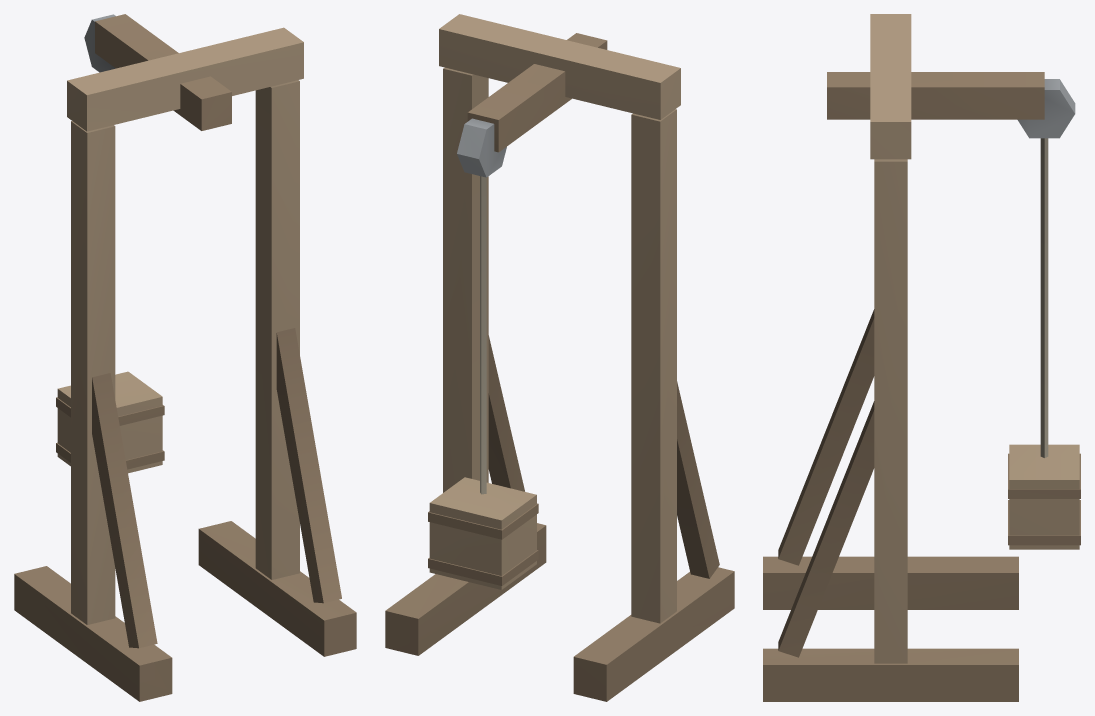
Rendered from crane_small_low.glb.
3 renders of one model, left to right at view 1: azimuth 30°, elevation 25°; view 2: azimuth 150°, elevation 25°; view 3: azimuth 270°, elevation 25°, orthographic. The views are drawn at different scales.
Parts seen in each view (by area): view 1: geometry_crane_small, geometry_wheel; view 2: geometry_crane_small, geometry_wheel; view 3: geometry_crane_small, geometry_wheel.
Part boxes in pixels (x1,y1,x2,y2): geometry_crane_small: [14, 14, 356, 701]; geometry_wheel: [84, 14, 115, 72]; geometry_crane_small: [385, 14, 734, 701]; geometry_wheel: [457, 118, 506, 177]; geometry_crane_small: [763, 14, 1080, 701]; geometry_wheel: [1017, 79, 1075, 138].
Bounding box in the file's own units: 2 × 5 × 2.49.
